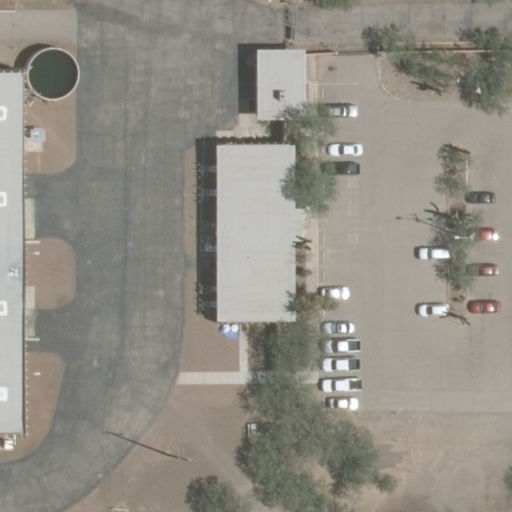DT: (171, 452, 198, 468)
